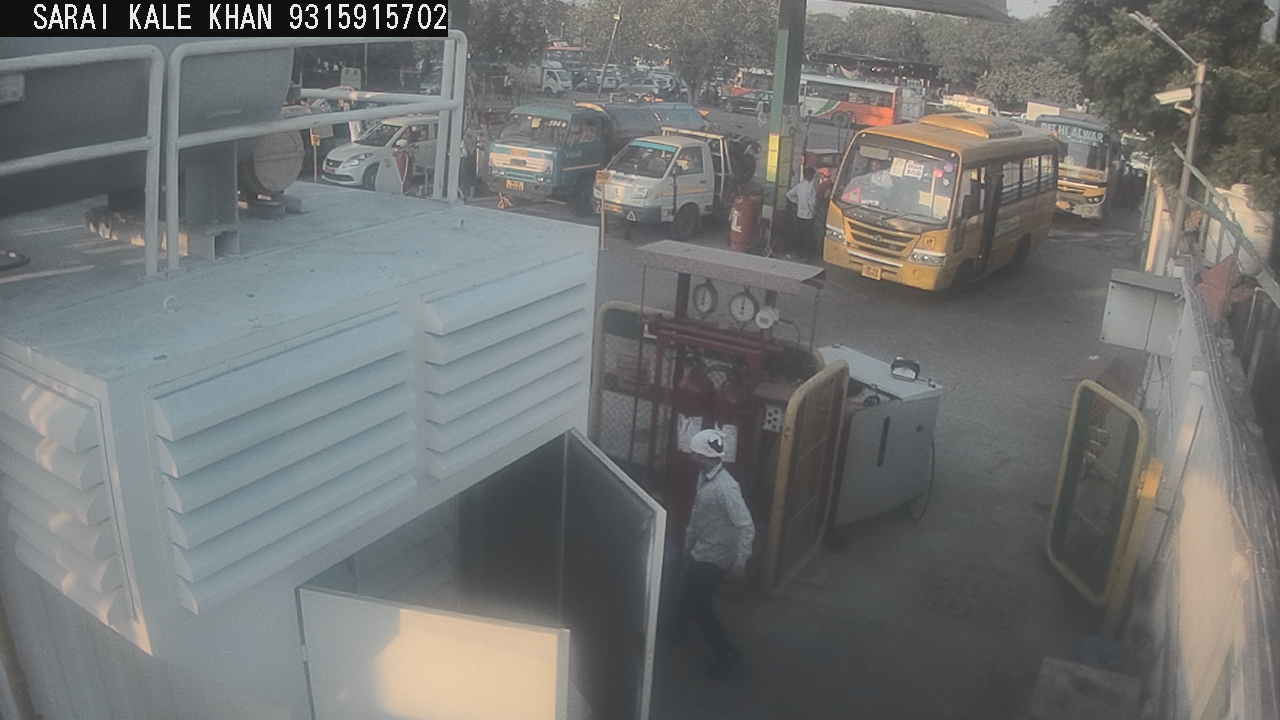Auto: (299, 91, 365, 176), (276, 95, 322, 176)
Car: (316, 111, 455, 195), (305, 83, 368, 119), (407, 64, 447, 104)
HMV: (804, 100, 1075, 308), (472, 85, 719, 222), (583, 115, 776, 248), (1022, 98, 1157, 236), (777, 66, 906, 143), (481, 51, 585, 104)
Others: (805, 156, 837, 272)
Others Other: (589, 163, 615, 266), (304, 121, 321, 186)
